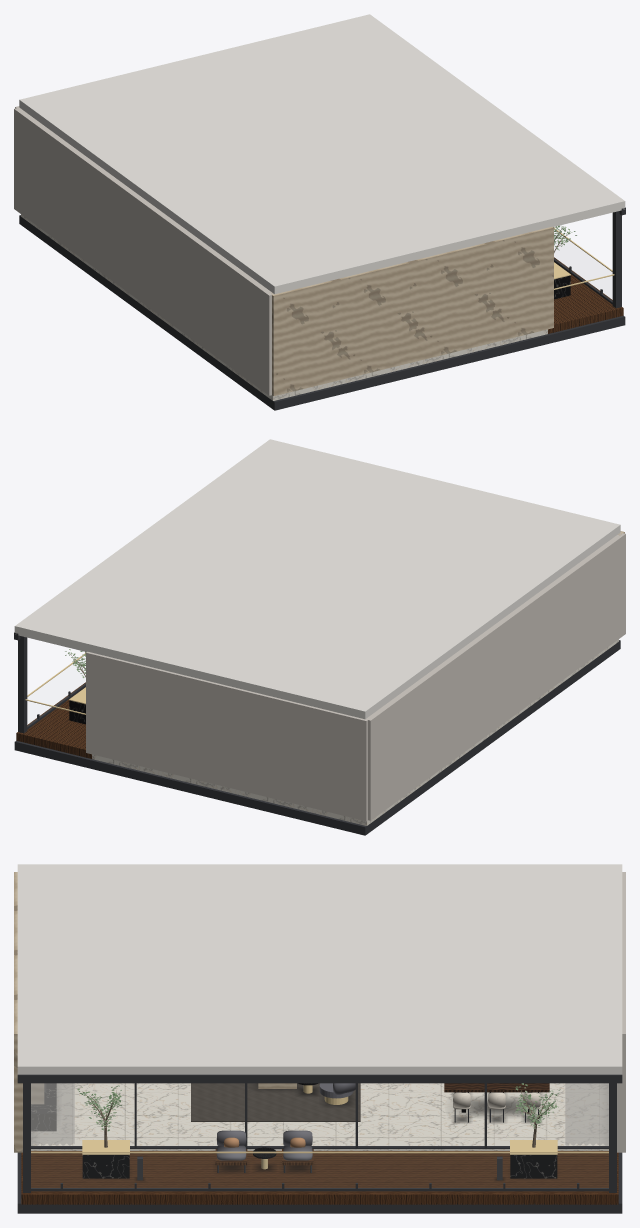
Rendered from penthouse_41f.glb.
3 renders of one model, top to bottom at view 1: azimuth 30°, elevation 25°; view 2: azimuth 150°, elevation 25°; view 3: azimuth 270°, elevation 25°, orthographic. The views are drawn at different scales.
Parts seen in each view (by area): view 1: Penthouse41F_Photoreal; view 2: Penthouse41F_Photoreal; view 3: Penthouse41F_Photoreal.
Boxes of the visible parts, x1,y1,x2,y2 form: Penthouse41F_Photoreal: (14, 14, 625, 410); Penthouse41F_Photoreal: (14, 439, 625, 835); Penthouse41F_Photoreal: (14, 864, 625, 1213).
Size of the model in its own units: 13.23 by 4.4 by 16.6.
Materials: 25 (10 with a texture image).
